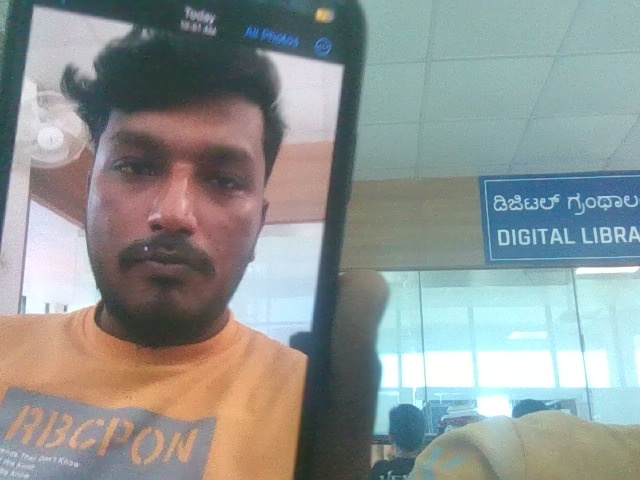fake: (58, 6, 301, 351)
